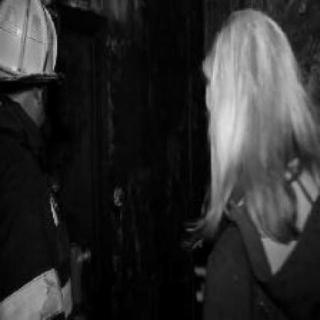other: (8, 280, 58, 316), (67, 241, 89, 317)
